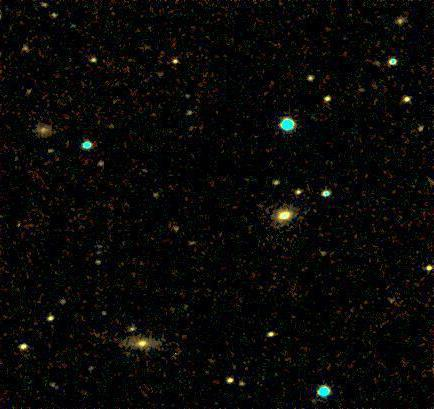star: (229, 364, 259, 394)
